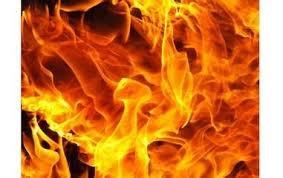fire: (23, 2, 275, 169)
